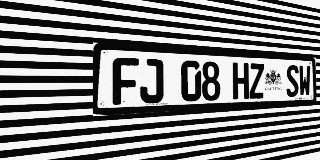0: (181, 60, 201, 102)
8: (202, 61, 220, 101)
F: (113, 57, 139, 105)
H: (233, 62, 249, 100)
J: (140, 58, 163, 104)
S: (286, 65, 299, 97)
W: (299, 65, 311, 97)
Z: (249, 63, 264, 99)
